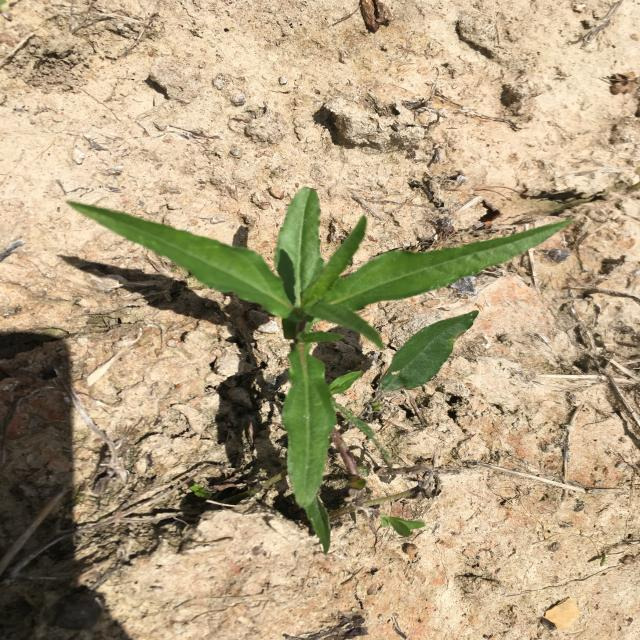Eclipta: (65, 185, 575, 554)
